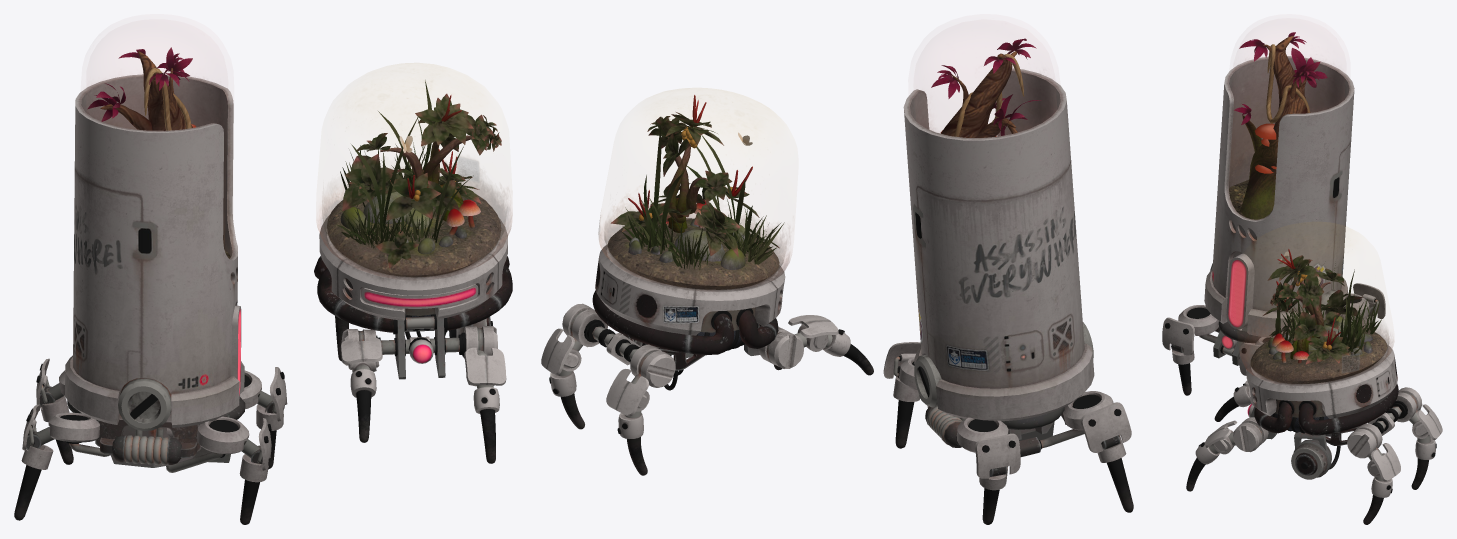
Rendered from terrarium_bots.glb.
The picture shows the model from 3 angles, left to right: view 1: azimuth 30°, elevation 25°; view 2: azimuth 150°, elevation 25°; view 3: azimuth 270°, elevation 25°; orthographic projection. The views are drawn at different scales.
Visible parts, largest first — view 1: Bot1, Bot2, Glass; view 2: Bot1, Bot2, Glass; view 3: Bot1, Bot2, Glass.
Boxes of the visible parts, x1,y1,x2,y2 form: Bot1: [14, 47, 287, 524]; Bot2: [314, 80, 512, 463]; Glass: [84, 70, 512, 280]; Bot1: [883, 38, 1133, 524]; Bot2: [541, 95, 873, 475]; Glass: [598, 55, 1056, 291]; Bot1: [1162, 32, 1385, 395]; Bot2: [1186, 249, 1442, 524]; Glass: [1229, 45, 1393, 385].
Size of the model in its own units: 28.97 by 23.9 by 16.69.
Materials: 3 (3 with a texture image).
